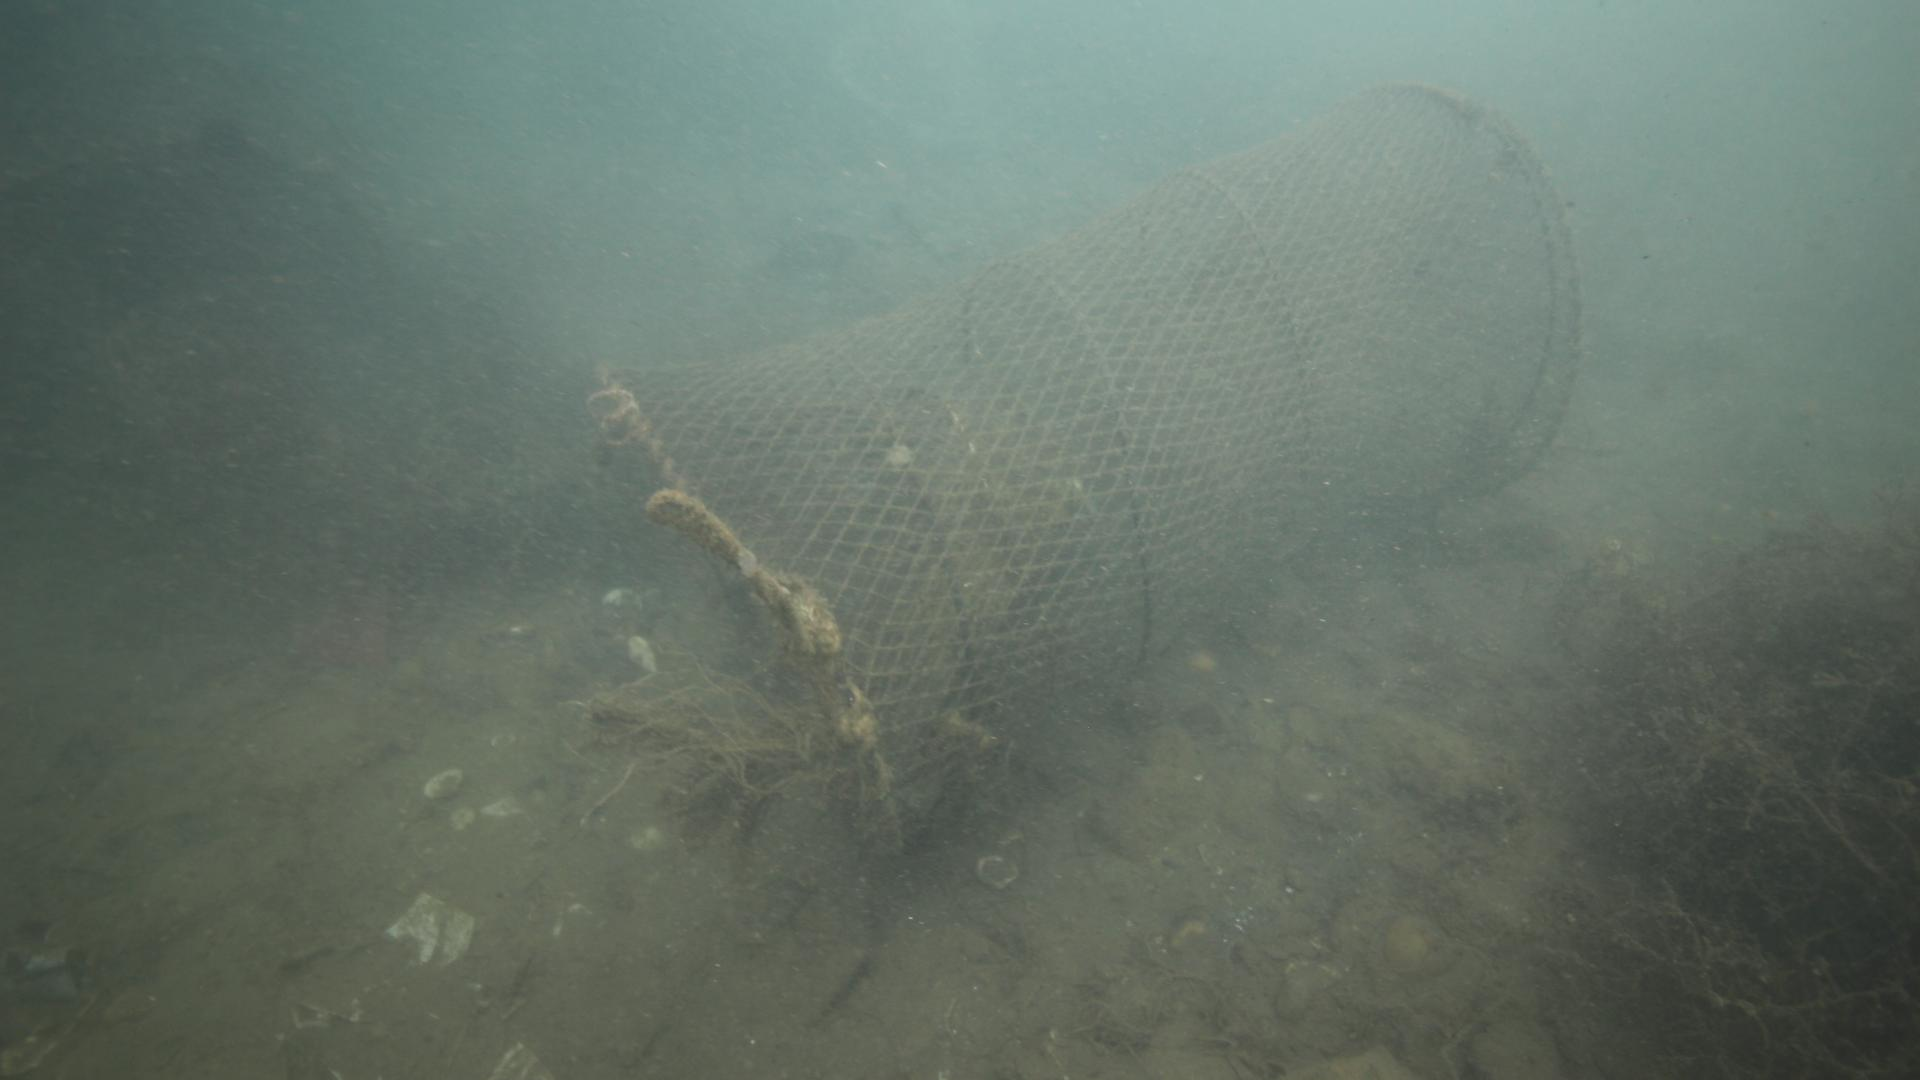spring fish trap: (588, 78, 1586, 858)
